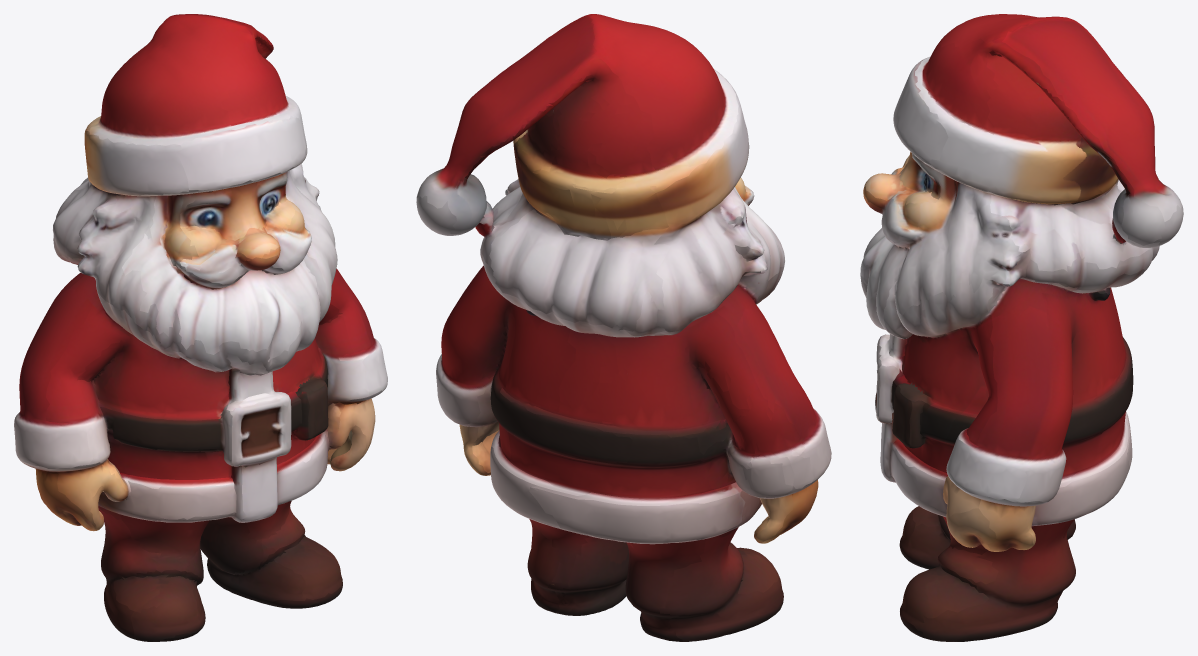
3 views of the same model, side by side, from view 1: azimuth 30°, elevation 25°; view 2: azimuth 150°, elevation 25°; view 3: azimuth 270°, elevation 25° (orthographic). The views are drawn at different scales.
Parts seen in each view (by area): view 1: tmpzo_igvl3.ply; view 2: tmpzo_igvl3.ply; view 3: tmpzo_igvl3.ply.
Part boxes in pixels (x1,y1,x2,y2): tmpzo_igvl3.ply: [14, 14, 387, 641]; tmpzo_igvl3.ply: [416, 14, 831, 641]; tmpzo_igvl3.ply: [860, 14, 1183, 641].
Size of the model in its own units: 1.32 by 1.96 by 0.989.
1 material, 1 textured.
